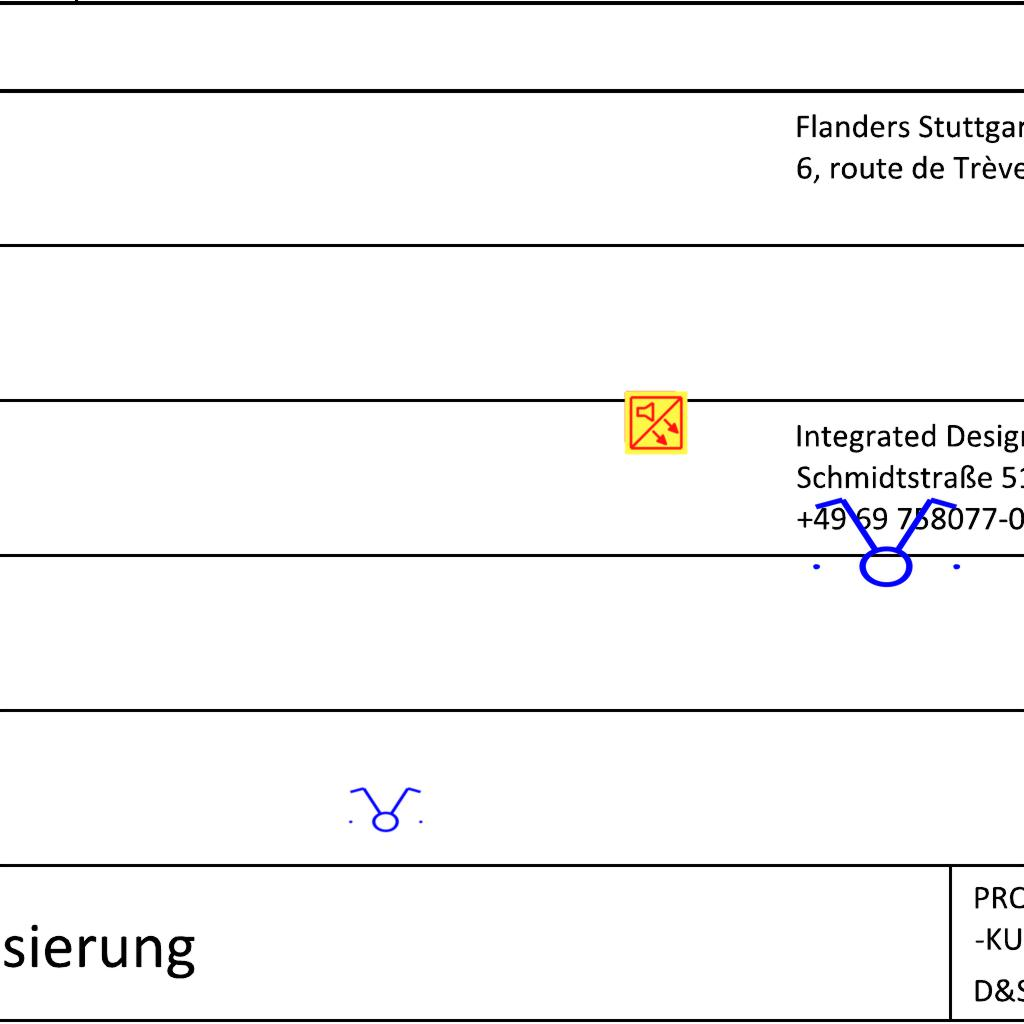OKW_Multisensormelder_(Kombination_optischer_Rauch-Kahlenmonoxid_Waerme-Melder): (623, 390, 689, 456)
Serienschalter: (801, 493, 969, 589), (343, 785, 427, 833)
